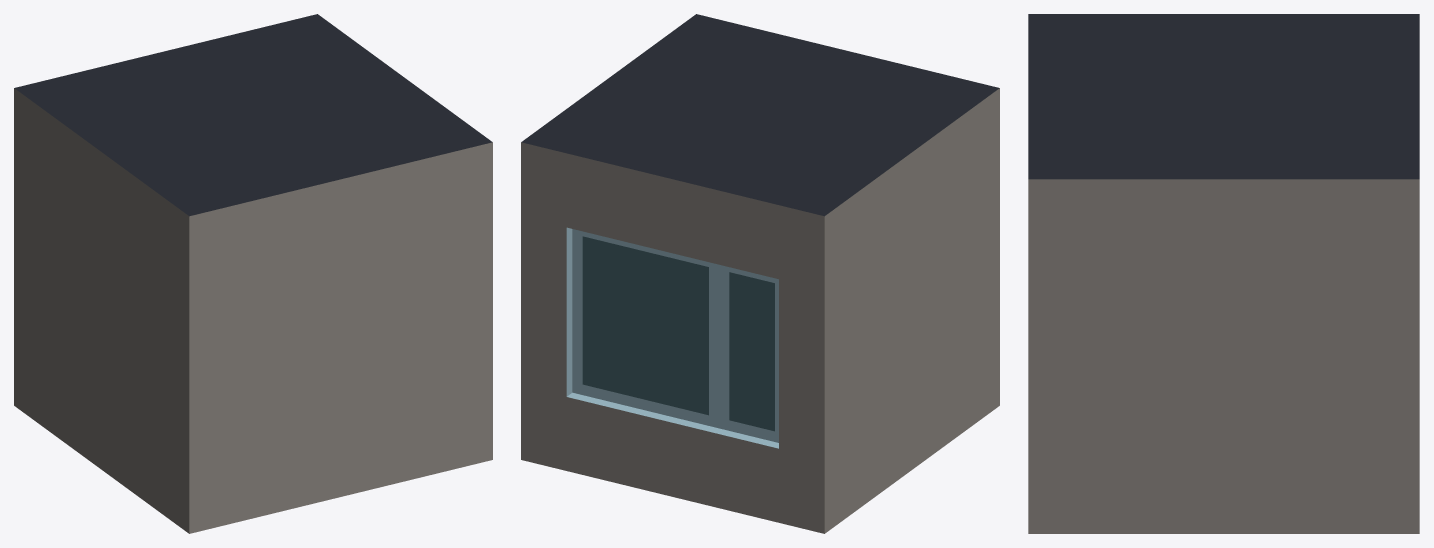
File: flat-box-window_01.fbx
The picture shows the model from 3 angles, left to right: view 1: azimuth 30°, elevation 25°; view 2: azimuth 150°, elevation 25°; view 3: azimuth 270°, elevation 25°; orthographic projection. The views are drawn at different scales.
Visible parts, largest first — view 1: flat-box-window_01; view 2: flat-box-window_01; view 3: flat-box-window_01.
Part boxes in pixels (x1,y1,x2,y2): flat-box-window_01: [14, 14, 492, 533]; flat-box-window_01: [521, 14, 999, 533]; flat-box-window_01: [1028, 14, 1419, 533].
Size of the model in its own units: 300 by 300 by 300.
